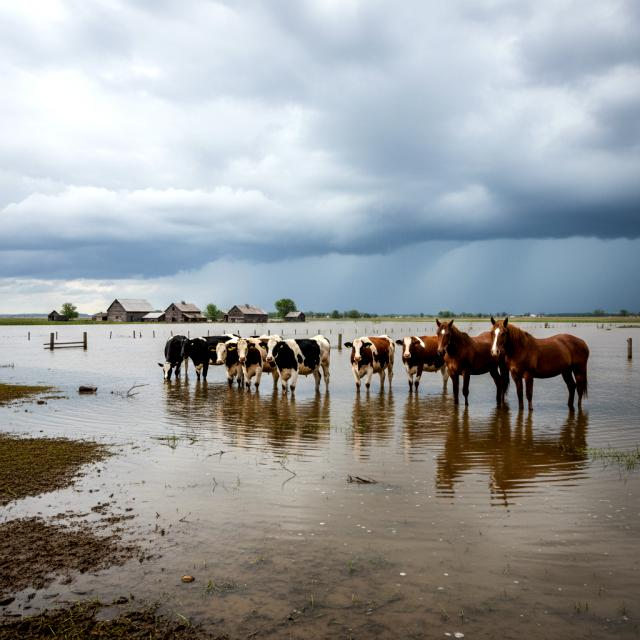cow: (258, 334, 335, 398), (227, 333, 286, 398), (174, 332, 246, 384), (395, 332, 452, 396), (342, 333, 398, 395), (210, 335, 254, 395), (157, 334, 195, 384)
horse: (484, 315, 594, 416), (429, 314, 514, 408)
